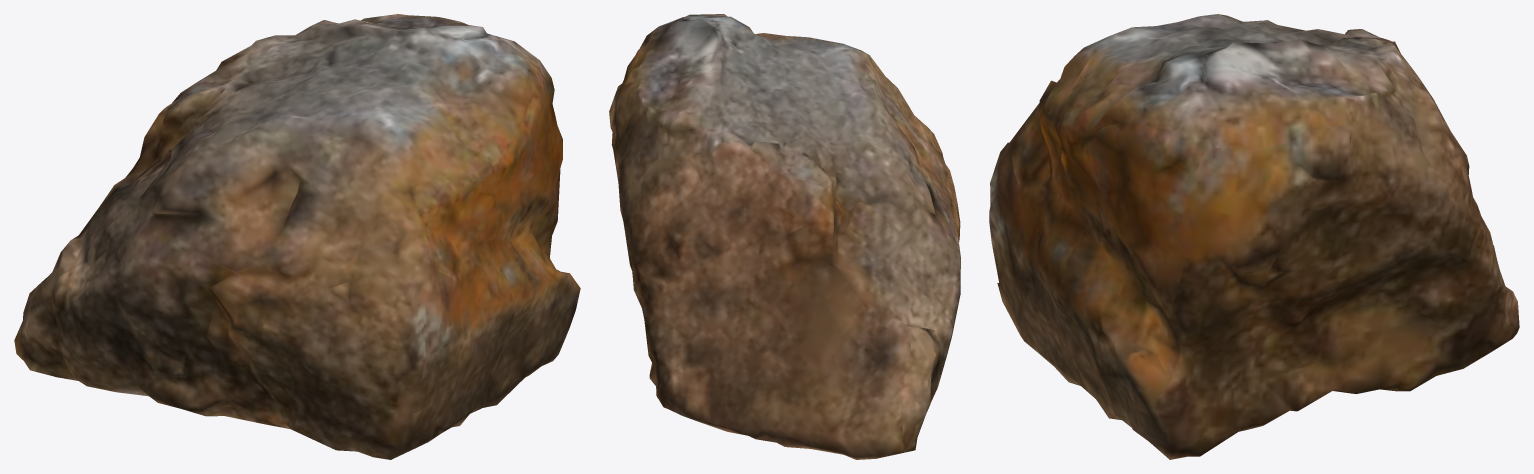
The model's file is namaqualand_boulder_04_lod1.glb.
3 views of the same model, side by side, from view 1: azimuth 30°, elevation 25°; view 2: azimuth 150°, elevation 25°; view 3: azimuth 270°, elevation 25° (orthographic). The views are drawn at different scales.
Parts seen in each view (by area): view 1: boulder_04; view 2: boulder_04; view 3: boulder_04.
Boxes of the visible parts, left/top/right/bottom form: boulder_04: left=14, top=14, right=580, bottom=459; boulder_04: left=609, top=14, right=960, bottom=459; boulder_04: left=989, top=14, right=1519, bottom=459.
Size of the model in its own units: 2.52 by 1.9 by 2.48.
1 material, 1 textured.
